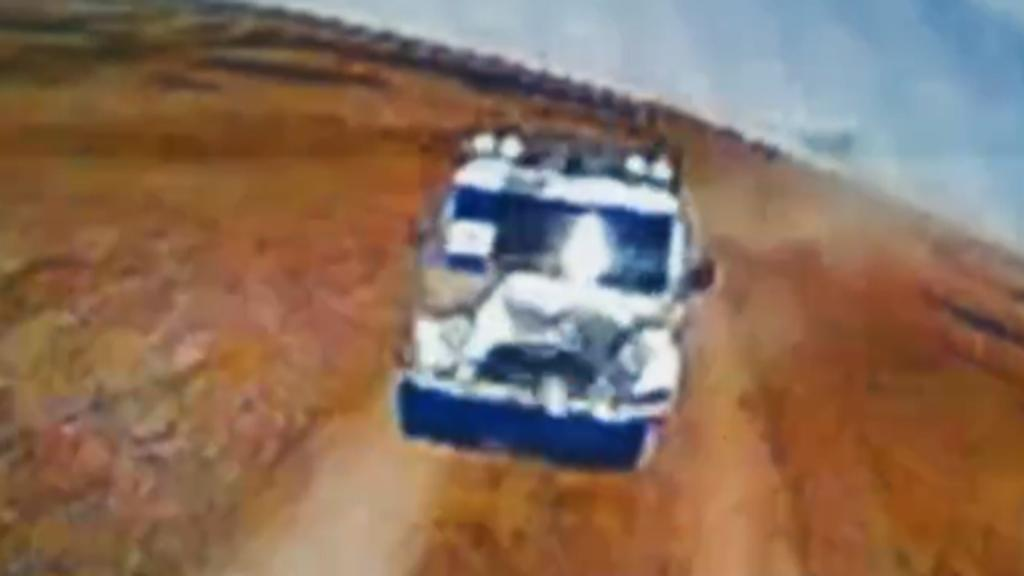CAR: (392, 119, 704, 460)
